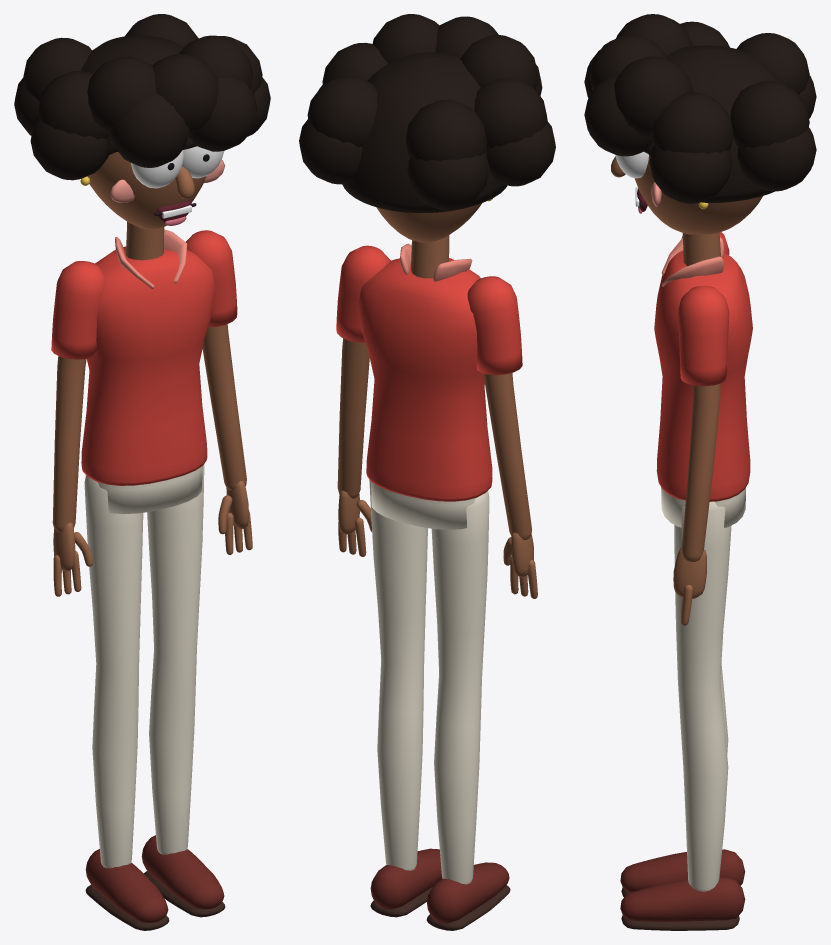
The model's file is nadia.glb.
3 views of the same model, side by side, from view 1: azimuth 30°, elevation 25°; view 2: azimuth 150°, elevation 25°; view 3: azimuth 270°, elevation 25° (orthographic).
Parts seen in each view (by area): view 1: Torso_top, Leg_0_limb, Leg_1_limb, Arm_0_limb, Arm_0_sleeve, Arm_1_limb, Hair_puff_6, Hair_puff_10, Hair_puff_11, Head_skull, Leg_1_shoe, Leg_0_shoe (+22 smaller); view 2: Torso_top, Leg_0_limb, Leg_1_limb, Hair_cap, Arm_0_sleeve, Arm_0_limb, Hair_puff_4, Arm_1_limb, Hair_puff_5, Hair_puff_9, Hair_puff_0, Leg_0_shoe (+18 smaller); view 3: Leg_1_limb, Torso_top, Hair_cap, Arm_1_sleeve, Arm_1_limb, Leg_1_shoe, Hair_puff_9, Hair_puff_8, Hair_puff_12, Hair_puff_2, Hair_puff_3, Head_skull (+12 smaller).
Boxes of the visible parts, x1=… form: Torso_top: x1=81, y1=246, x2=214, y2=485; Leg_0_limb: x1=84, y1=475, x2=143, y2=868; Leg_1_limb: x1=147, y1=464, x2=204, y2=854; Arm_0_limb: x1=52, y1=356, x2=86, y2=532; Arm_0_sleeve: x1=51, y1=261, x2=105, y2=359; Arm_1_limb: x1=202, y1=324, x2=246, y2=490; Hair_puff_6: x1=110, y1=93, x2=189, y2=167; Hair_puff_10: x1=87, y1=56, x2=156, y2=134; Hair_puff_11: x1=152, y1=54, x2=218, y2=134; Head_skull: x1=87, y1=152, x2=206, y2=229; Leg_1_shoe: x1=141, y1=835, x2=224, y2=909; Leg_0_shoe: x1=85, y1=849, x2=168, y2=922; Torso_top: x1=358, y1=258, x2=492, y2=501; Leg_0_limb: x1=431, y1=491, x2=489, y2=884; Leg_1_limb: x1=369, y1=480, x2=427, y2=870; Hair_cap: x1=342, y1=52, x2=506, y2=212; Arm_0_sleeve: x1=467, y1=276, x2=522, y2=375; Arm_0_limb: x1=483, y1=372, x2=531, y2=539; Hair_puff_4: x1=405, y1=100, x2=487, y2=160; Arm_1_limb: x1=337, y1=338, x2=369, y2=498; Hair_puff_5: x1=474, y1=78, x2=547, y2=148; Hair_puff_9: x1=307, y1=76, x2=377, y2=147; Hair_puff_0: x1=407, y1=153, x2=488, y2=210; Leg_0_shoe: x1=427, y1=862, x2=509, y2=923; Leg_1_limb: x1=674, y1=501, x2=731, y2=891; Torso_top: x1=654, y1=250, x2=752, y2=501; Hair_cap: x1=643, y1=45, x2=782, y2=203; Arm_1_sleeve: x1=678, y1=286, x2=729, y2=386; Arm_1_limb: x1=681, y1=383, x2=720, y2=561; Leg_1_shoe: x1=620, y1=877, x2=745, y2=921; Hair_puff_9: x1=730, y1=81, x2=809, y2=149; Hair_puff_8: x1=650, y1=92, x2=733, y2=153; Hair_puff_12: x1=614, y1=56, x2=692, y2=138; Hair_puff_2: x1=649, y1=146, x2=732, y2=203; Hair_puff_3: x1=737, y1=127, x2=816, y2=191; Head_skull: x1=634, y1=155, x2=762, y2=234.
Size of the model in its own units: 0.4825 by 1.74 by 0.4186.
